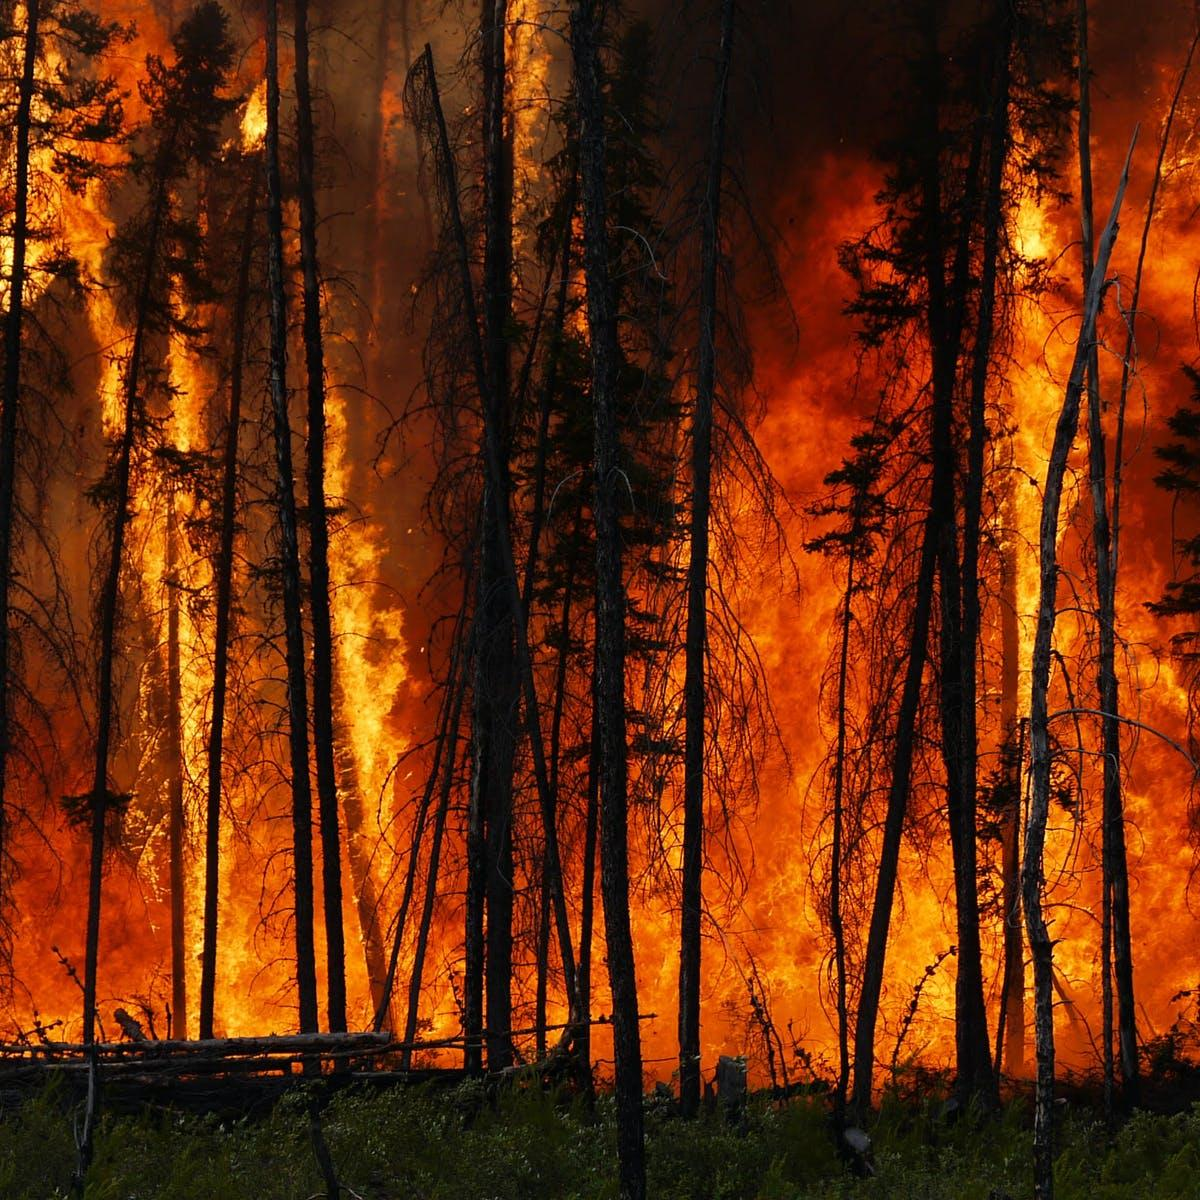fire: (4, 0, 518, 1059), (686, 144, 1200, 1095)
